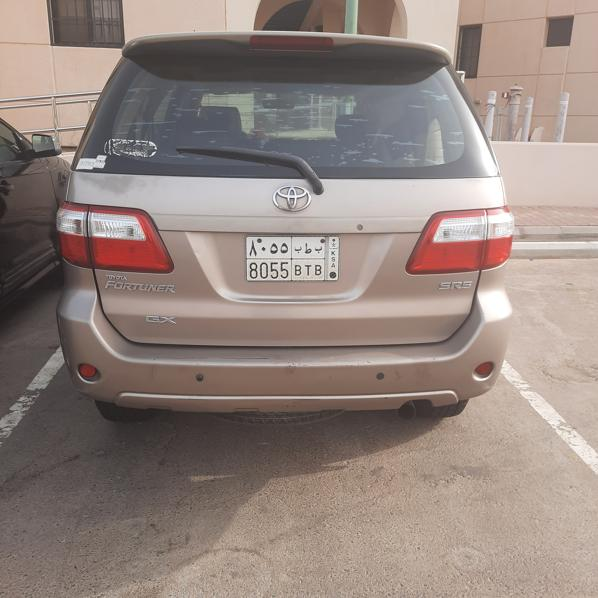numberplate: (246, 236, 339, 281)
